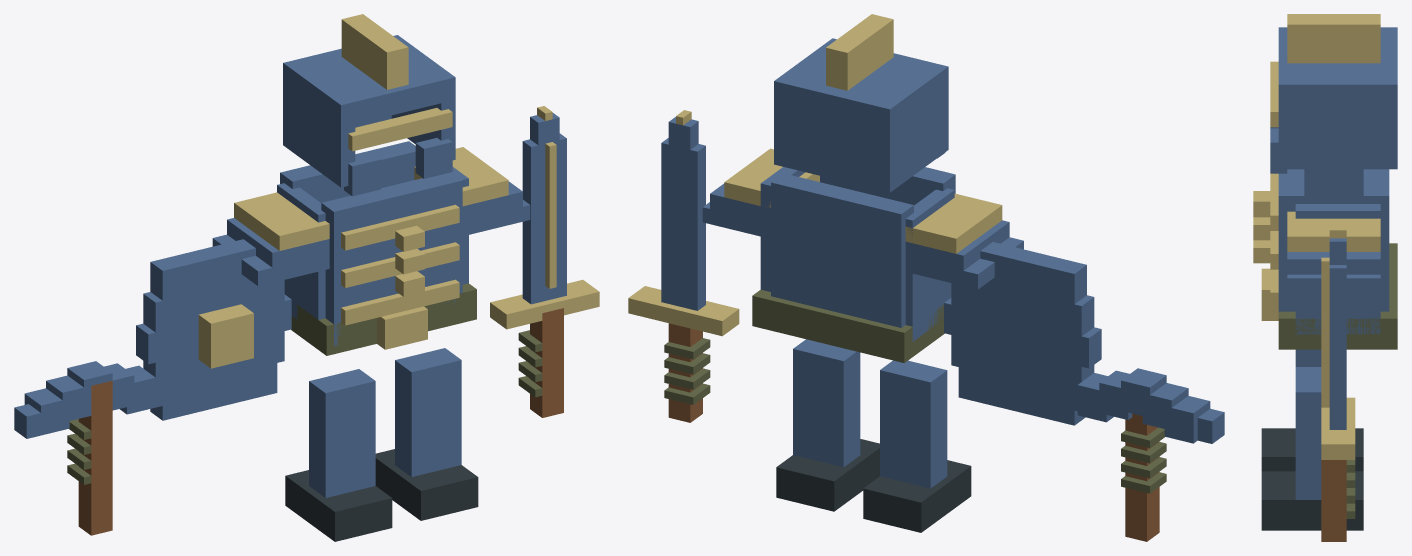
File: gear_baseline_t9.glb
3 views of the same model, side by side, from view 1: azimuth 30°, elevation 25°; view 2: azimuth 150°, elevation 25°; view 3: azimuth 270°, elevation 25° (orthographic). The views are drawn at different scales.
Parts seen in each view (by area): view 1: gear_baseline_t9/armor_chest, gear_baseline_t9/armor_helmet, gear_baseline_t9/shield, gear_baseline_t9/weapon, gear_baseline_t9/armor_greave_left, gear_baseline_t9/armor_greave_right, gear_baseline_t9/utility_tool, gear_baseline_t9/armor_shoulder_left, gear_baseline_t9/armor_belt, gear_baseline_t9/armor_shoulder_right; view 2: gear_baseline_t9/armor_chest, gear_baseline_t9/armor_helmet, gear_baseline_t9/shield, gear_baseline_t9/weapon, gear_baseline_t9/armor_greave_left, gear_baseline_t9/armor_greave_right, gear_baseline_t9/utility_tool, gear_baseline_t9/armor_shoulder_left, gear_baseline_t9/armor_belt, gear_baseline_t9/armor_shoulder_right; view 3: gear_baseline_t9/armor_helmet, gear_baseline_t9/armor_chest, gear_baseline_t9/weapon, gear_baseline_t9/armor_greave_right, gear_baseline_t9/armor_shoulder_right, gear_baseline_t9/armor_belt, gear_baseline_t9/armor_greave_left.
Part boxes in pixels (x1=…): gear_baseline_t9/armor_chest: x1=277, y1=141, x2=468, y2=346; gear_baseline_t9/armor_helmet: x1=283, y1=14, x2=455, y2=196; gear_baseline_t9/shield: x1=136, y1=239, x2=291, y2=420; gear_baseline_t9/weapon: x1=490, y1=106, x2=599, y2=417; gear_baseline_t9/armor_greave_left: x1=285, y1=369, x2=392, y2=541; gear_baseline_t9/armor_greave_right: x1=375, y1=348, x2=478, y2=520; gear_baseline_t9/utility_tool: x1=14, y1=361, x2=176, y2=535; gear_baseline_t9/armor_shoulder_left: x1=212, y1=192, x2=329, y2=286; gear_baseline_t9/armor_belt: x1=291, y1=283, x2=476, y2=355; gear_baseline_t9/armor_shoulder_right: x1=414, y1=147, x2=530, y2=236; gear_baseline_t9/armor_chest: x1=760, y1=167, x2=955, y2=341; gear_baseline_t9/armor_helmet: x1=774, y1=14, x2=948, y2=192; gear_baseline_t9/shield: x1=944, y1=242, x2=1101, y2=425; gear_baseline_t9/weapon: x1=628, y1=110, x2=739, y2=422; gear_baseline_t9/armor_greave_left: x1=863, y1=360, x2=971, y2=532; gear_baseline_t9/armor_greave_right: x1=776, y1=339, x2=879, y2=511; gear_baseline_t9/utility_tool: x1=1060, y1=368, x2=1224, y2=541; gear_baseline_t9/armor_shoulder_left: x1=905, y1=193, x2=1023, y2=289; gear_baseline_t9/armor_belt: x1=752, y1=289, x2=944, y2=362; gear_baseline_t9/armor_shoulder_right: x1=702, y1=148, x2=819, y2=236; gear_baseline_t9/armor_helmet: x1=1270, y1=14, x2=1397, y2=173; gear_baseline_t9/armor_chest: x1=1253, y1=169, x2=1389, y2=334; gear_baseline_t9/weapon: x1=1321, y1=227, x2=1355, y2=541; gear_baseline_t9/armor_greave_right: x1=1261, y1=367, x2=1363, y2=530; gear_baseline_t9/armor_shoulder_right: x1=1287, y1=211, x2=1380, y2=293; gear_baseline_t9/armor_belt: x1=1261, y1=243, x2=1397, y2=349; gear_baseline_t9/armor_greave_left: x1=1261, y1=349, x2=1363, y2=471.
Bounding box in the file's own units: 2.5 × 1.94 × 0.5312.
